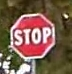stop: (9, 12, 56, 58)
